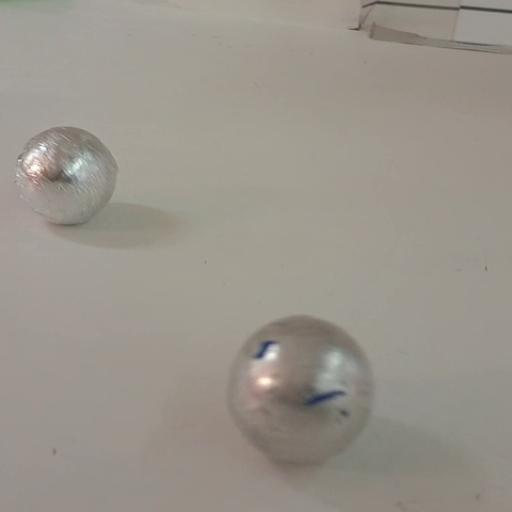alive: (222, 312, 381, 472), (12, 126, 120, 226)
